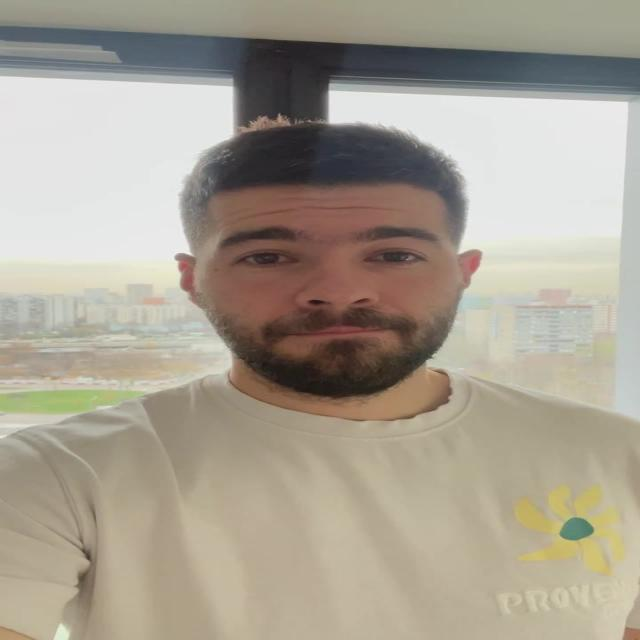earlobe: (182, 287, 201, 306)
eye: (240, 253, 298, 267), (372, 250, 425, 264)
nose: (300, 301, 377, 327)
wholeear: (174, 253, 201, 306), (459, 248, 482, 292)
